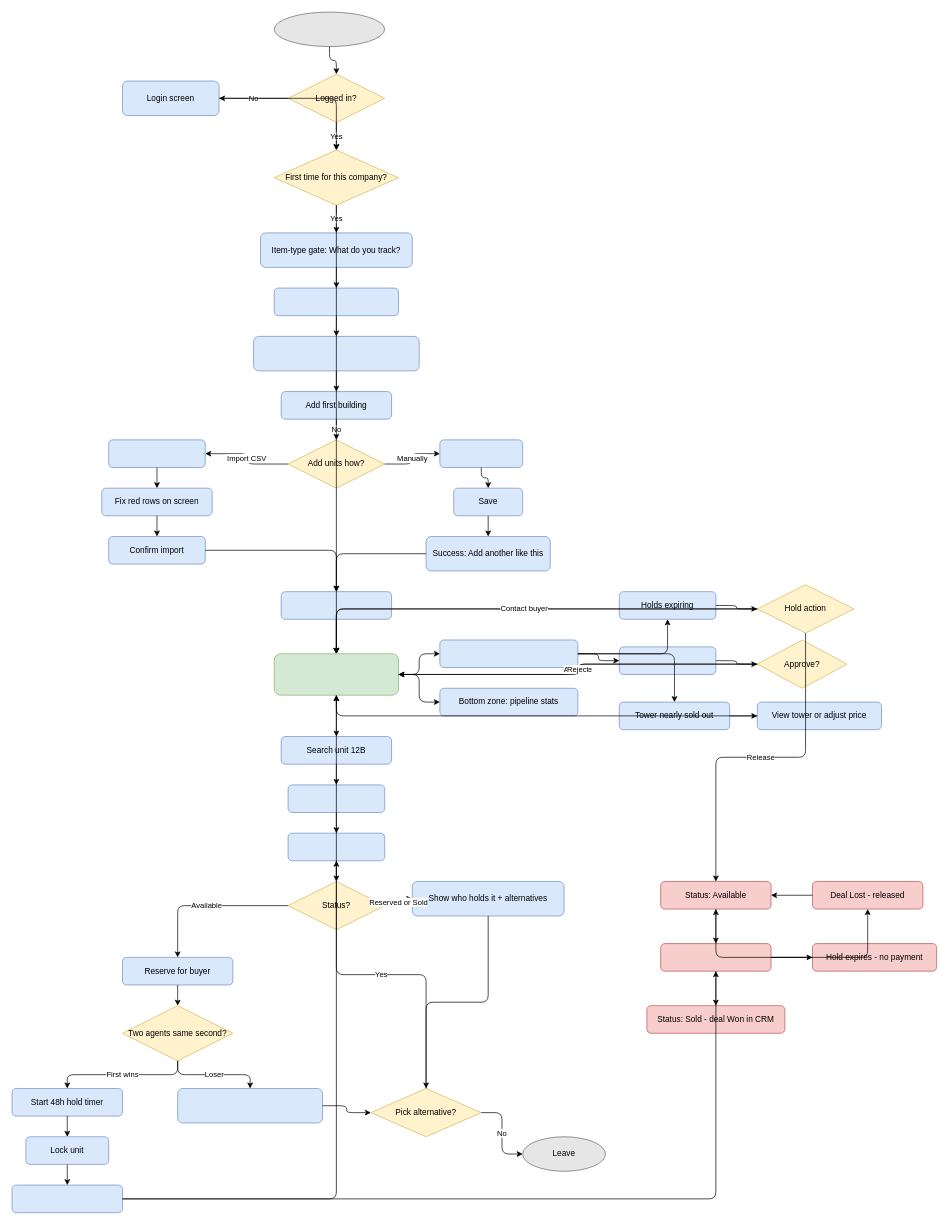
The diagram is 949 pixels wide and 1225 high, and some of its shapes have lost their labels. Each missing label, with the box of its shape:
12B just reserved + 3 nearby flats: (177, 1088, 323, 1123)
Approvals waiting: (619, 646, 716, 674)
Confirmation: (11, 1184, 122, 1213)
Dashboard (hub): (274, 653, 398, 695)
Open StockLens: (274, 11, 385, 47)
Open unit: (287, 832, 385, 861)
Owner ticks Real Estate: (274, 287, 398, 316)
Sidebar reshapes to real-estate menus: (253, 336, 419, 371)
Status: Reserved: (660, 943, 771, 971)
Top zone: Needs you today: (439, 639, 578, 668)
Unit form: (439, 439, 523, 467)
Unit list: (287, 784, 385, 812)
Units created: (280, 591, 392, 619)
Upload CSV: (108, 439, 205, 467)
